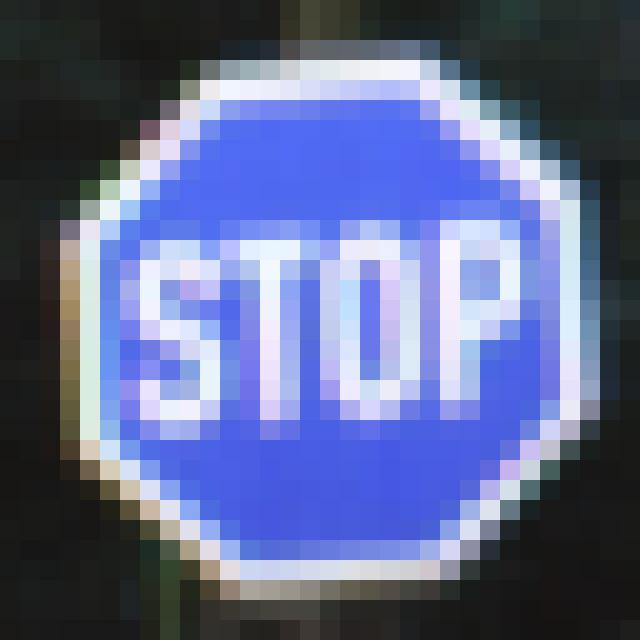STOP: (84, 82, 574, 574)
